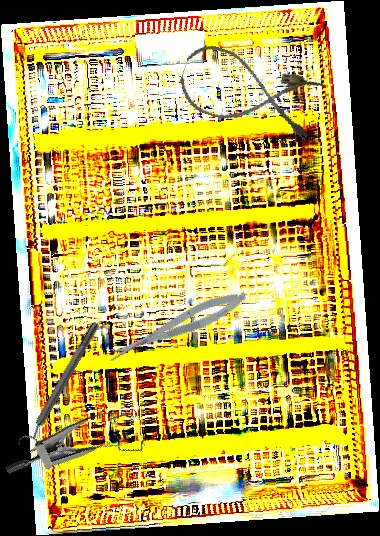Cannula: (173, 39, 325, 146)
Fixation Ring: (15, 318, 107, 455)
Micro Scissor: (103, 284, 251, 367)
Speculum: (3, 382, 158, 524)
